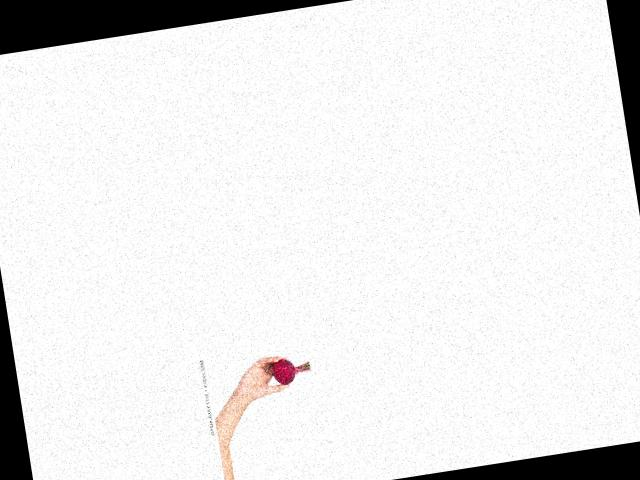beet: (270, 354, 312, 385)
